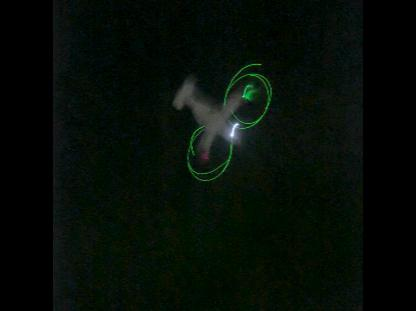Tornado: (171, 70, 272, 180)
